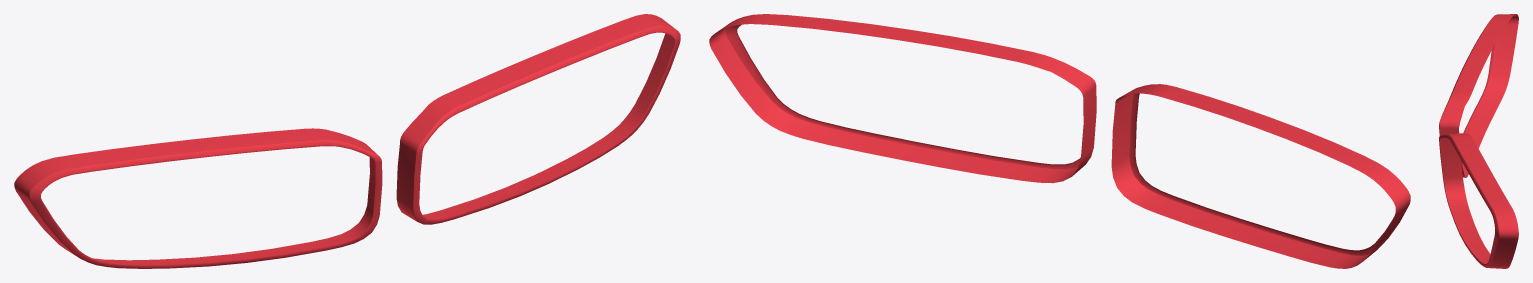
Rendered from b_Kit1_Paint_Geo_lodA_Kit1_Paint_13.glb.
The picture shows the model from 3 angles, left to right: view 1: azimuth 30°, elevation 25°; view 2: azimuth 150°, elevation 25°; view 3: azimuth 270°, elevation 25°; orthographic projection. The views are drawn at different scales.
Visible parts, largest first — view 1: b:Kit1_Paint_Geo_lodA_Kit1_Paint_Geo_lodA_BMW_i8Elite_2017Pa; view 2: b:Kit1_Paint_Geo_lodA_Kit1_Paint_Geo_lodA_BMW_i8Elite_2017Pa; view 3: b:Kit1_Paint_Geo_lodA_Kit1_Paint_Geo_lodA_BMW_i8Elite_2017Pa.
Part boxes in pixels (left/top/right/bottom): b:Kit1_Paint_Geo_lodA_Kit1_Paint_Geo_lodA_BMW_i8Elite_2017Pa: left=14, top=14, right=680, bottom=268; b:Kit1_Paint_Geo_lodA_Kit1_Paint_Geo_lodA_BMW_i8Elite_2017Pa: left=709, top=14, right=1410, bottom=268; b:Kit1_Paint_Geo_lodA_Kit1_Paint_Geo_lodA_BMW_i8Elite_2017Pa: left=1439, top=14, right=1518, bottom=268.
Size of the model in its own units: 0.8328 by 0.1454 by 0.1306.
